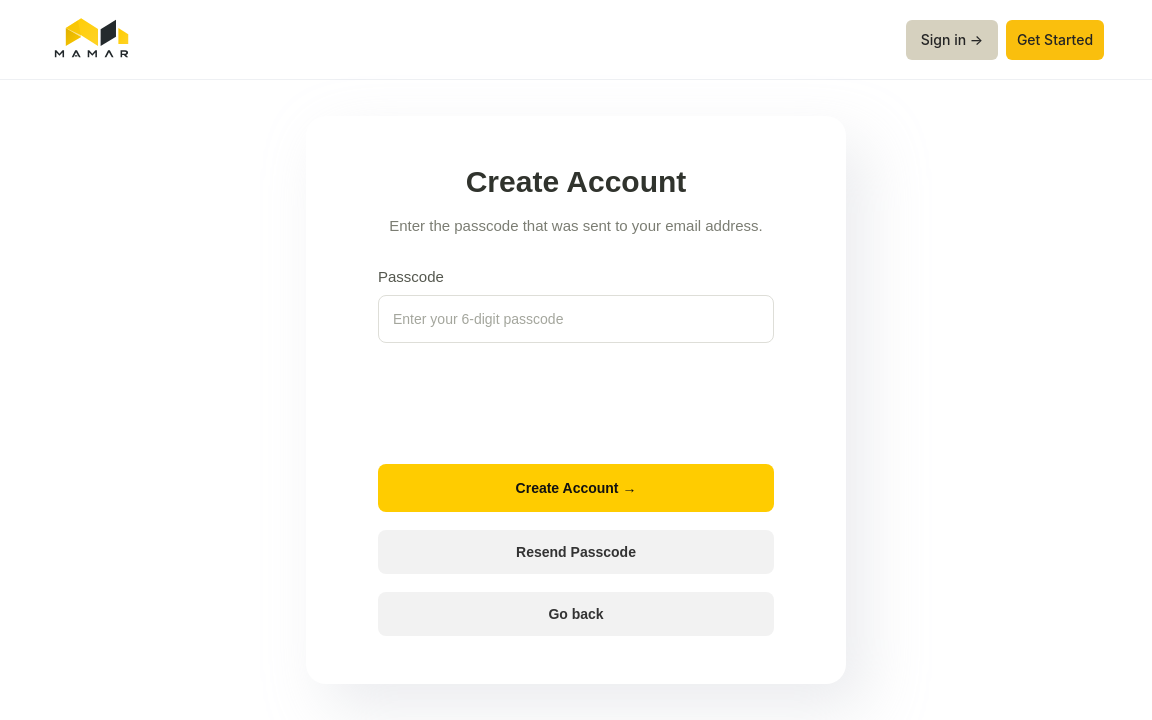
Test: RegisterVerificationPage - إنشاء الحساب › رمز ناقص يعرض خطأ
Type "123" into the field labelled "Passcode".
click(576, 319); type("123")  # box [378,295,774,343]
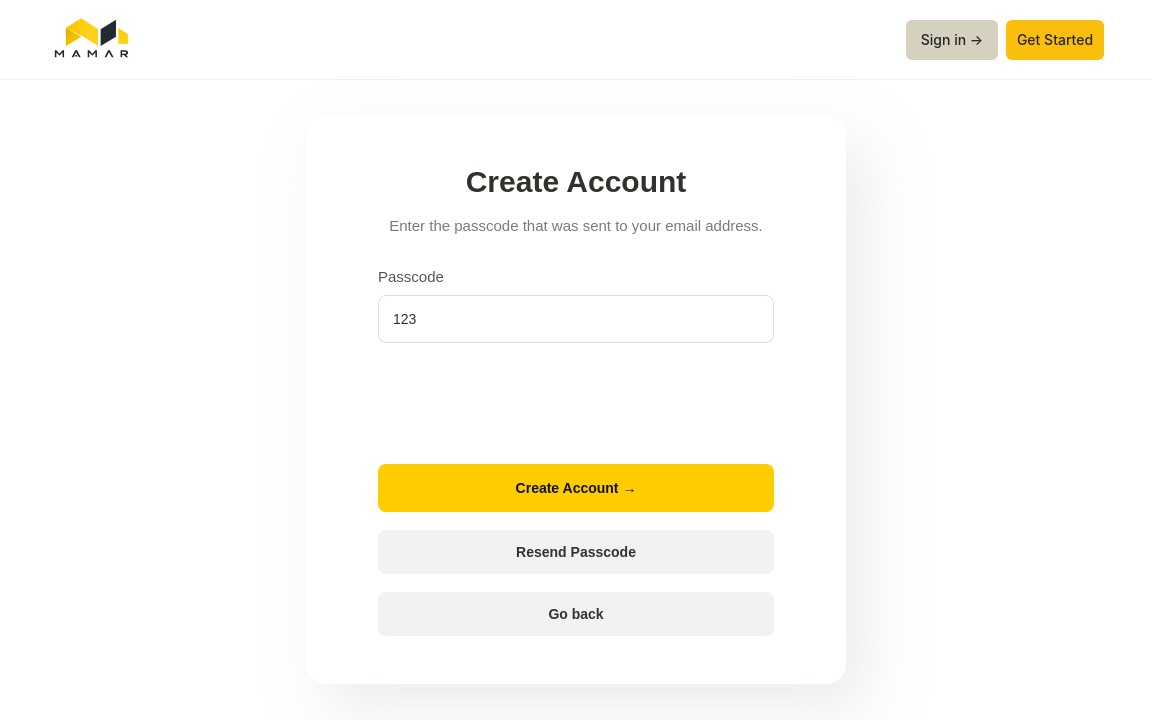
Click the button "Create Account →".
click(576, 488)  # box [378,464,774,512]
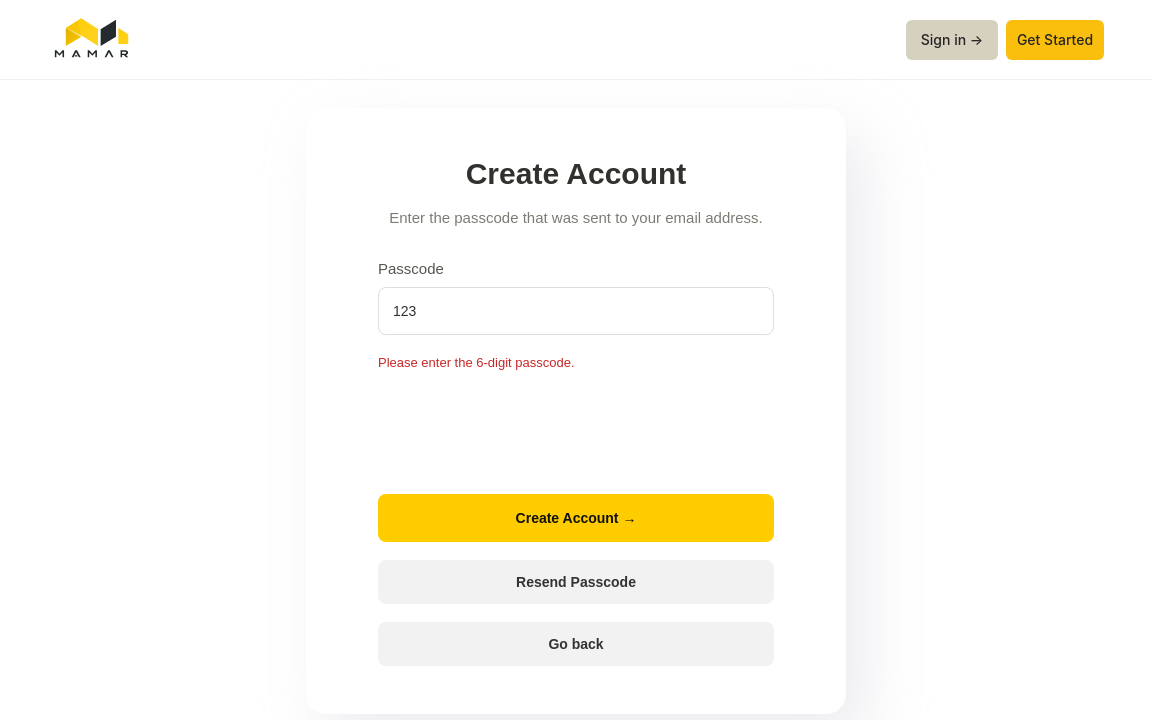
expect the message reads "Please enter the 6-digit passcode.": met, box [378,355,575,370]
